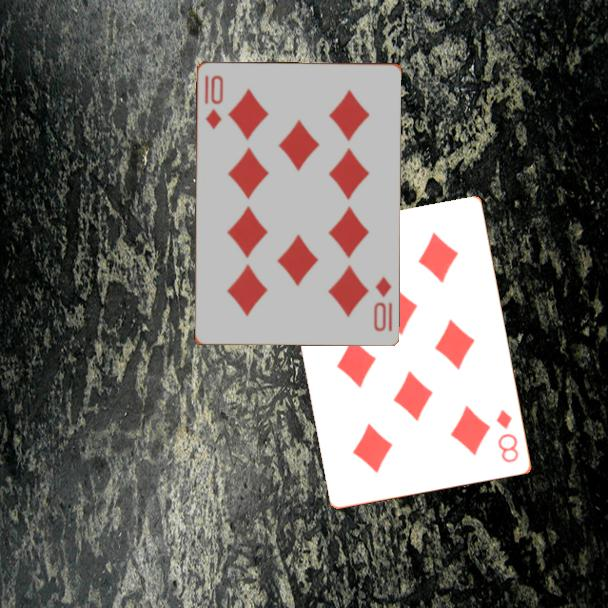d08: (493, 406, 522, 466)
d10: (201, 72, 226, 132), (370, 273, 394, 334)
